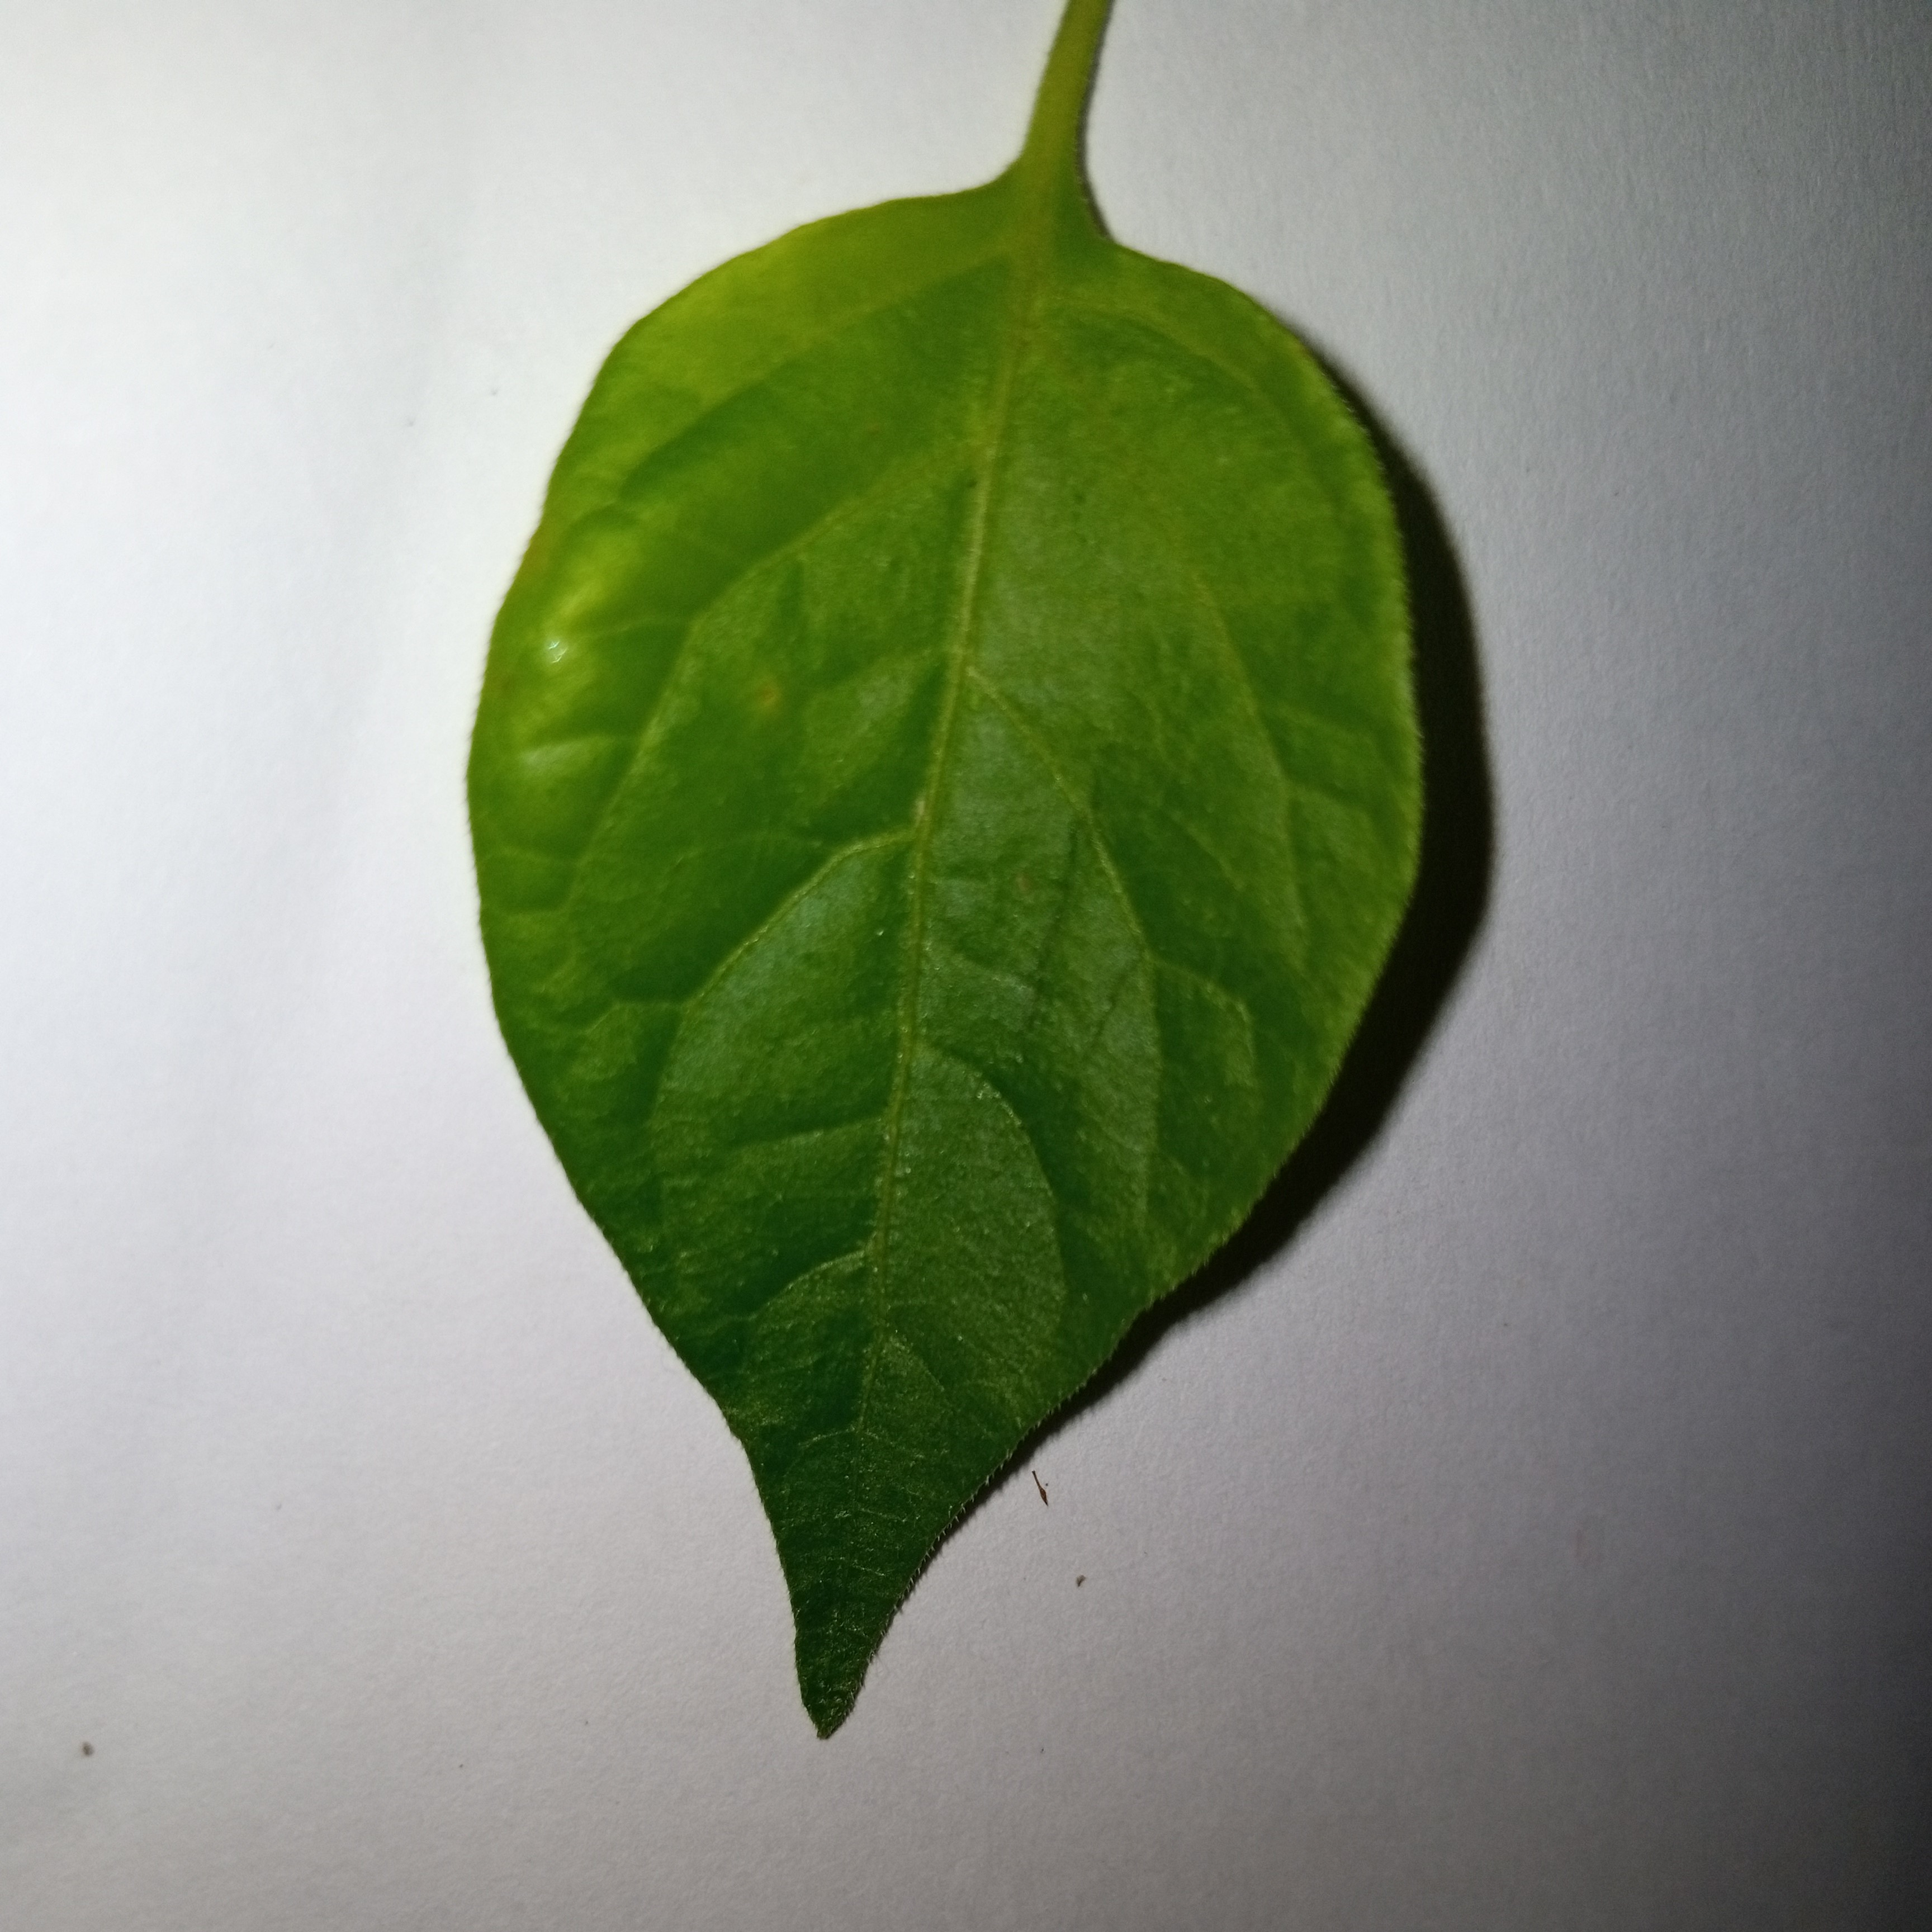Leaf: (368, 168, 1748, 1778)
